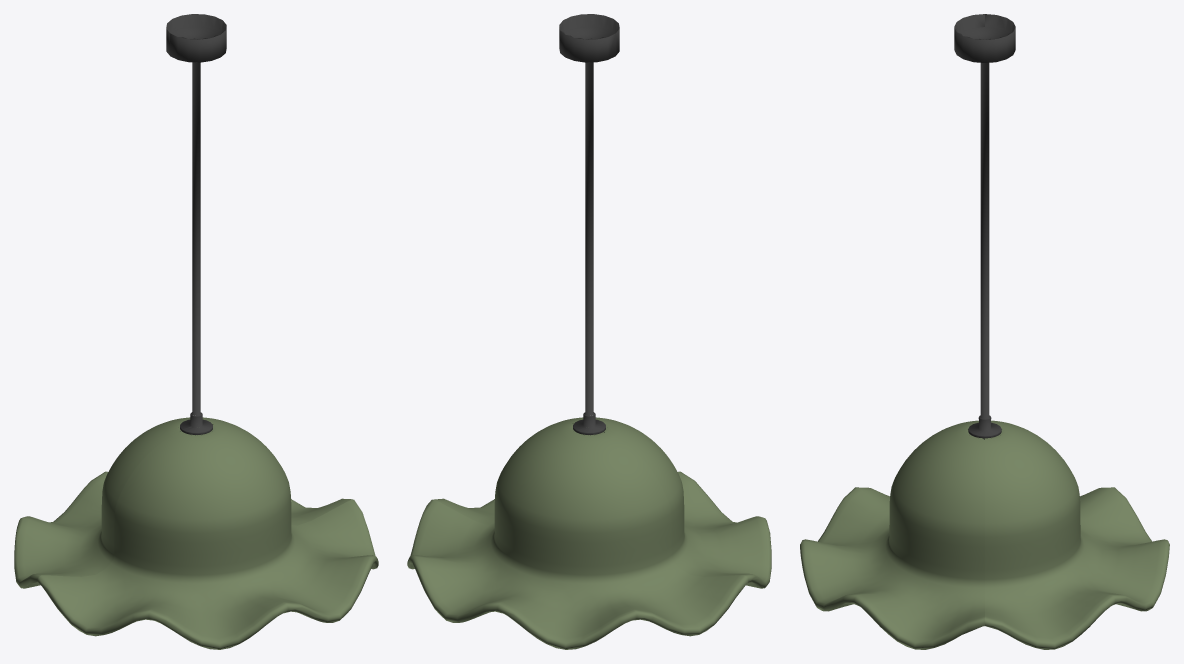
File: 3D_lamp_11-kwi.gltf
The picture shows the model from 3 angles, left to right: view 1: azimuth 30°, elevation 25°; view 2: azimuth 150°, elevation 25°; view 3: azimuth 270°, elevation 25°; orthographic projection.
Parts seen in each view (by area): view 1: 3D_lamp_11; view 2: 3D_lamp_11; view 3: 3D_lamp_11.
Part boxes in pixels (bbox=[...]): 3D_lamp_11: bbox=[14, 14, 378, 649]; 3D_lamp_11: bbox=[407, 14, 771, 649]; 3D_lamp_11: bbox=[800, 14, 1169, 649].
Size of the model in its own units: 0.3618 by 0.596 by 0.3618.
Materials: 1 (1 with a texture image).
